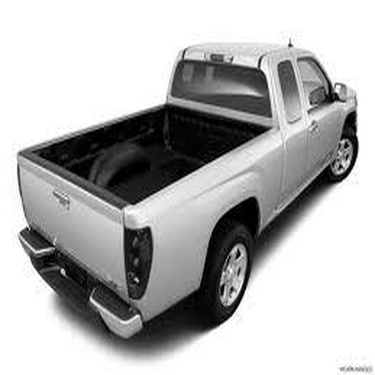car: (6, 25, 364, 323)
